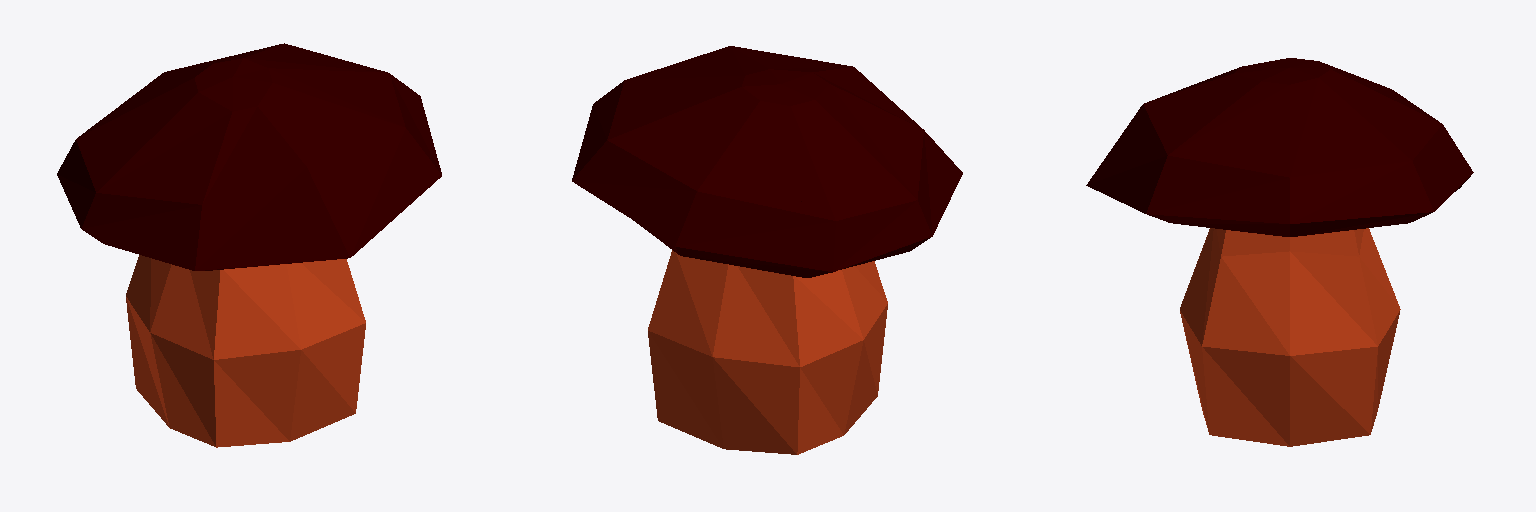
The model's file is mushroom.obj.
The picture shows the model from 3 angles: view 1: azimuth 30°, elevation 25°; view 2: azimuth 150°, elevation 25°; view 3: azimuth 270°, elevation 25°; orthographic projection.
Visible parts, largest first — view 1: Sphere, Cube_Cube.001; view 2: Sphere, Cube_Cube.001; view 3: Sphere, Cube_Cube.001.
Part boxes in pixels (bbox=[...]): Sphere: bbox=[57, 43, 441, 270]; Cube_Cube.001: bbox=[126, 255, 365, 447]; Sphere: bbox=[572, 46, 962, 277]; Cube_Cube.001: bbox=[648, 250, 887, 454]; Sphere: bbox=[1086, 58, 1473, 236]; Cube_Cube.001: bbox=[1180, 228, 1400, 446].
Bounding box in the file's own units: 2.25 × 2.31 × 2.23.